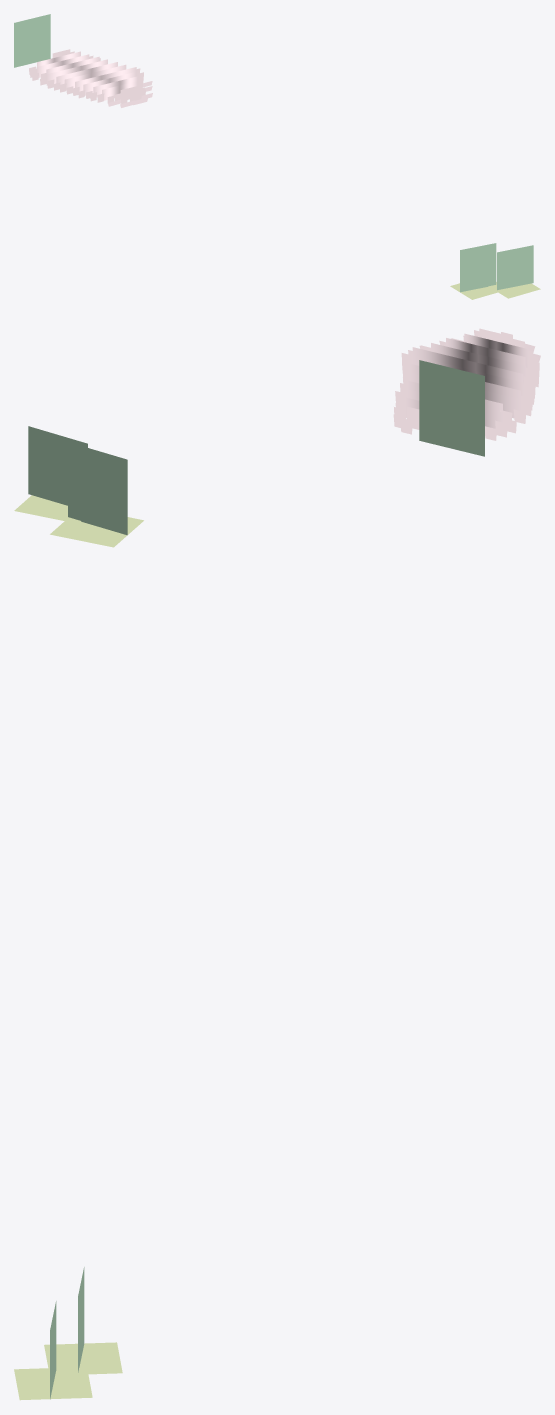
3 views of the same model, one above another, from view 1: azimuth 30°, elevation 25°; view 2: azimuth 150°, elevation 25°; view 3: azimuth 270°, elevation 25° (orthographic). The views are drawn at different scales.
Visible parts, largest first — view 1: 2-4_skeleton; view 2: 2-4_skeleton; view 3: 2-4_skeleton.
Part boxes in pixels (x1,y1,x2,y2): 2-4_skeleton: [14, 14, 540, 299]; 2-4_skeleton: [14, 328, 540, 547]; 2-4_skeleton: [14, 1267, 122, 1400].
Bounding box in the file's own units: 3377 × 2150 × 2154.
